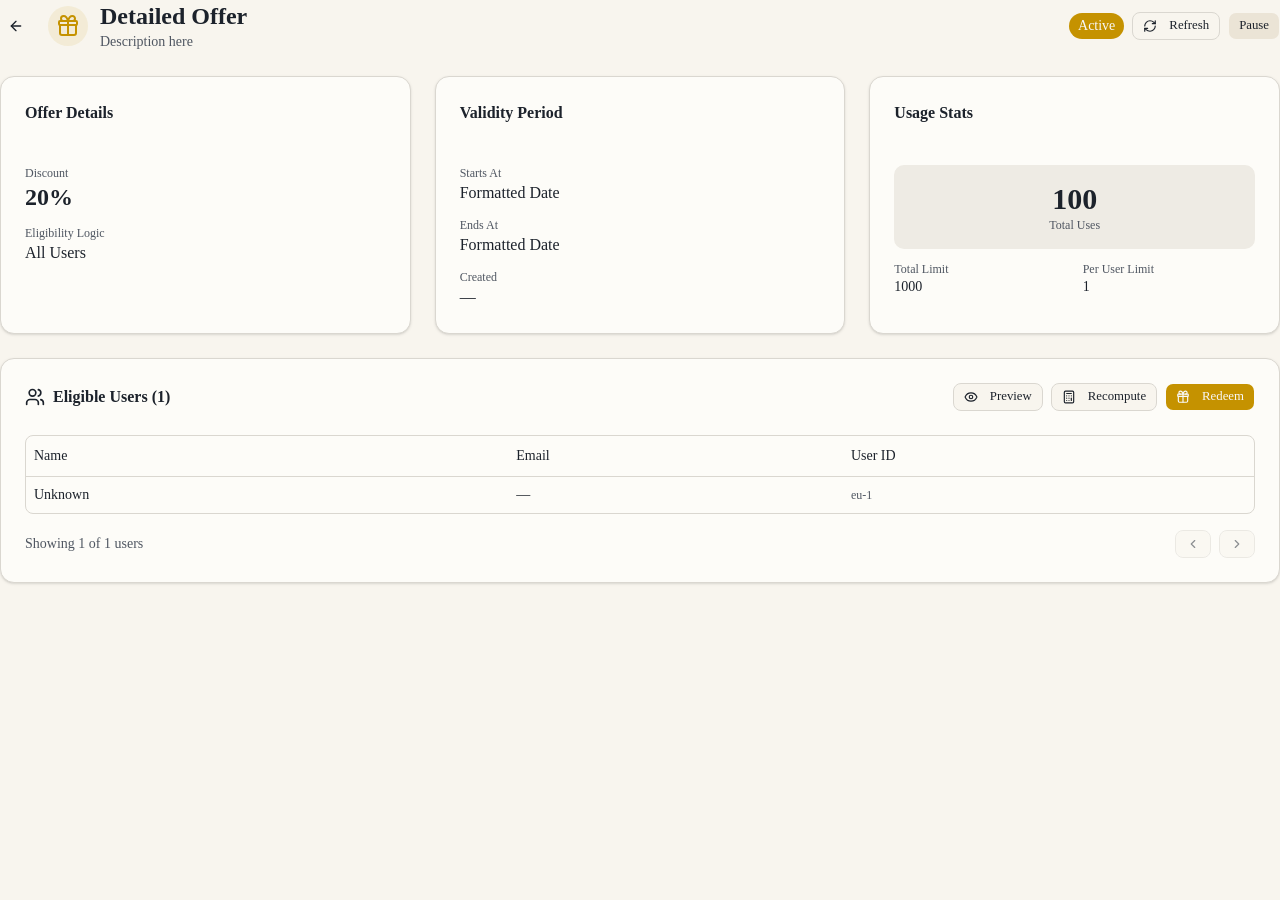
Scenario: OfferDetailView › opens create redemptions dialog
Click the button "Redeem": (1210, 397) [1165,383,1255,411]
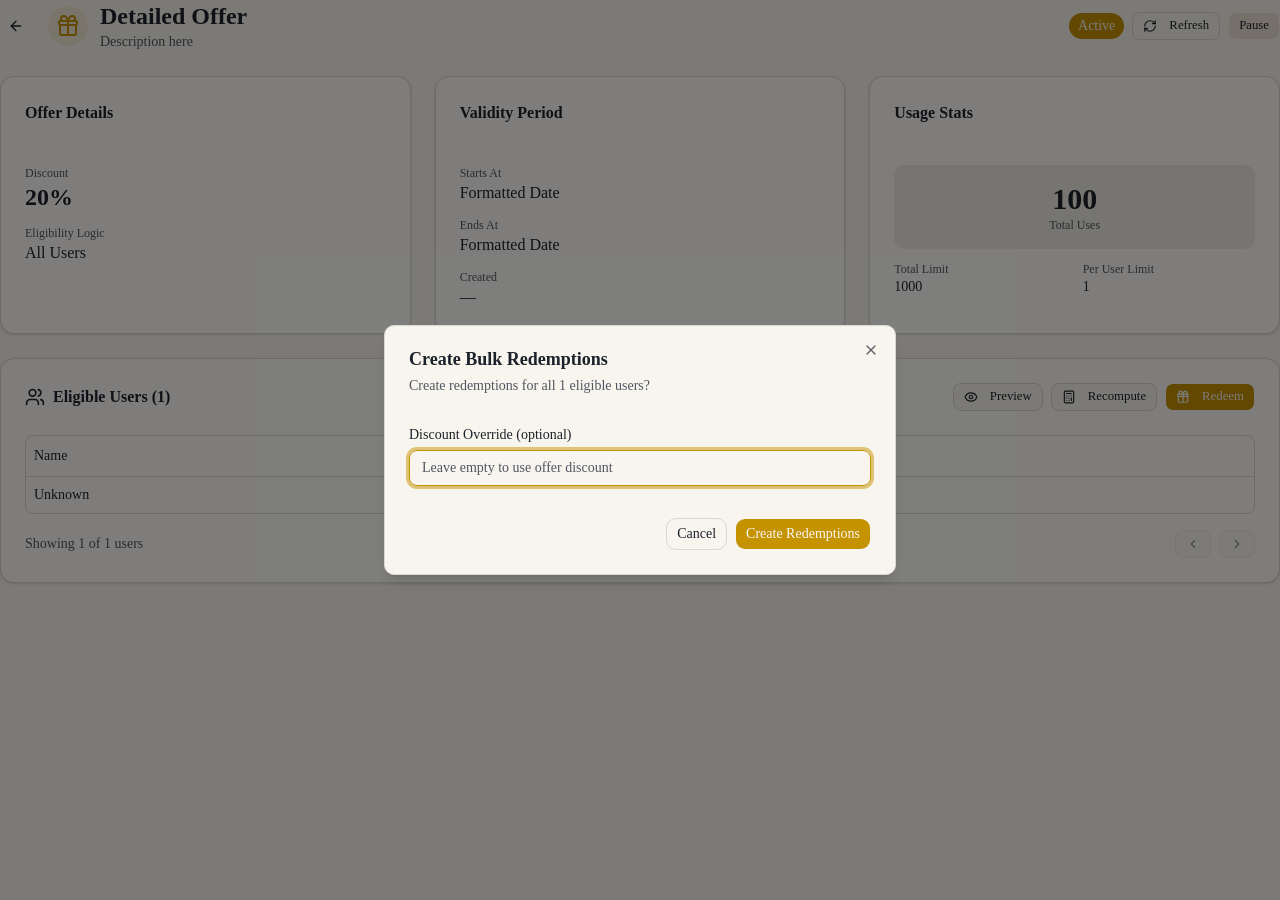
expect the heading "Create Bulk Redemptions" is shown: met, box [409,349,608,369]
